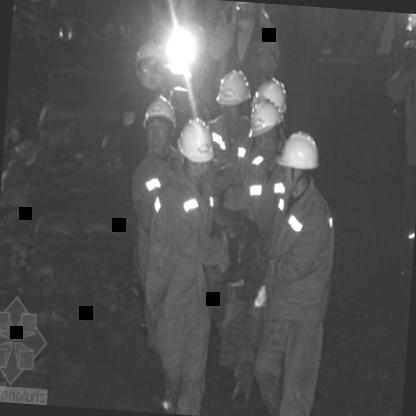helmet: (274, 128, 322, 198), (139, 94, 182, 163), (171, 115, 216, 176), (244, 101, 287, 164), (214, 66, 255, 128), (127, 38, 170, 94), (251, 74, 288, 130)
